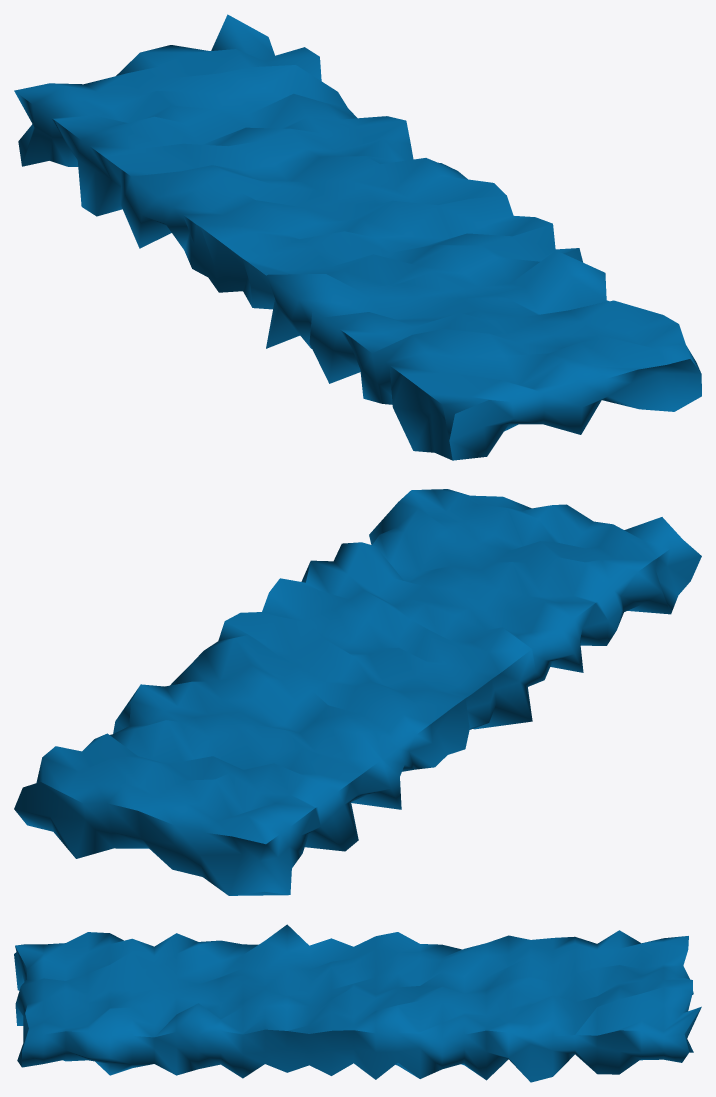
Rendered from Agua1.fbx.
3 renders of one model, top to bottom at view 1: azimuth 30°, elevation 25°; view 2: azimuth 150°, elevation 25°; view 3: azimuth 270°, elevation 25°, orthographic. The views are drawn at different scales.
Parts seen in each view (by area): view 1: Cubo; view 2: Cubo; view 3: Cubo.
Boxes of the visible parts, x1=… form: Cubo: x1=14, y1=14, x2=701, y2=460; Cubo: x1=14, y1=489, x2=701, y2=895; Cubo: x1=14, y1=924, x2=701, y2=1082.
Size of the model in its own units: 21224 by 6714 by 57711.
